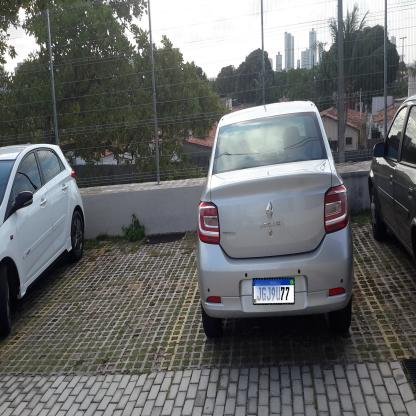PlacaM: (252, 278, 295, 305)
